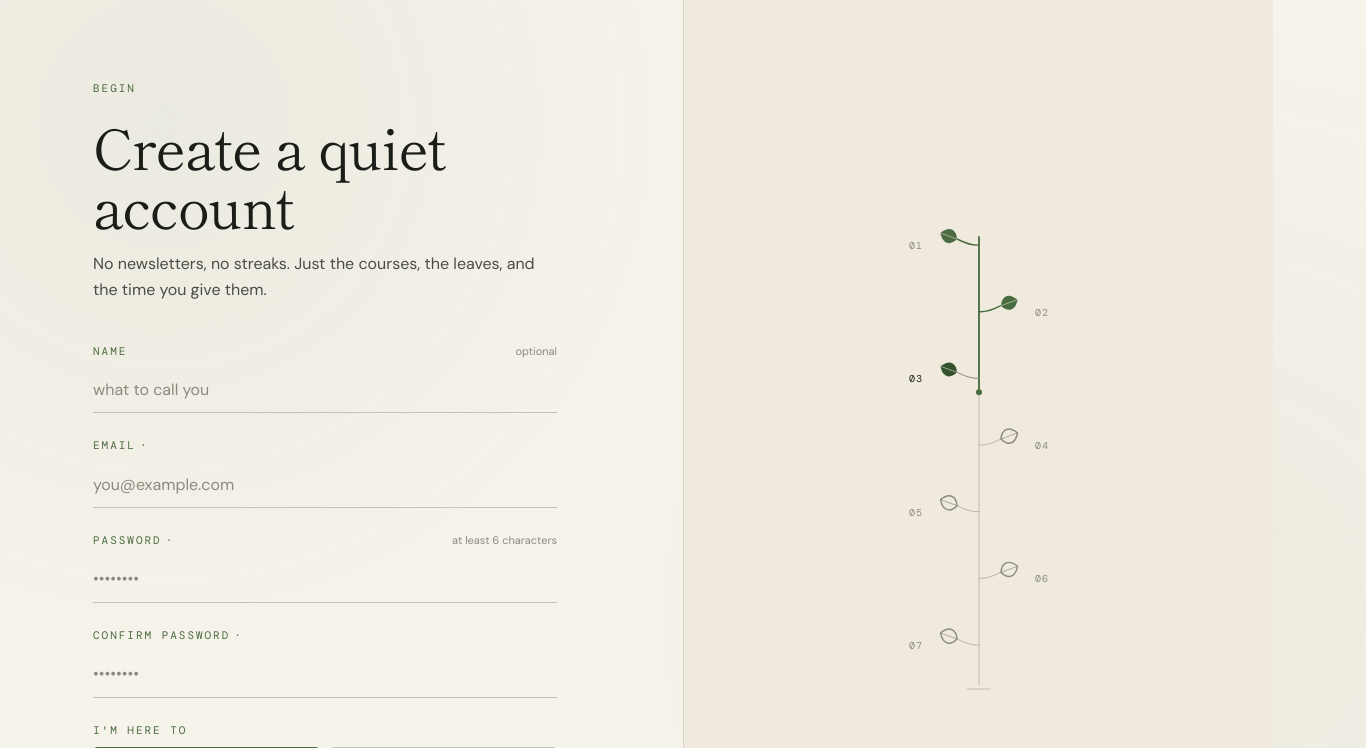
Scenario: Register › shows error when password is shorter than 6 characters
This screenshot has width=1366, height=748.
In the field labelled "Email·": (325, 485) [93,462,557,508], type "a@b.com"
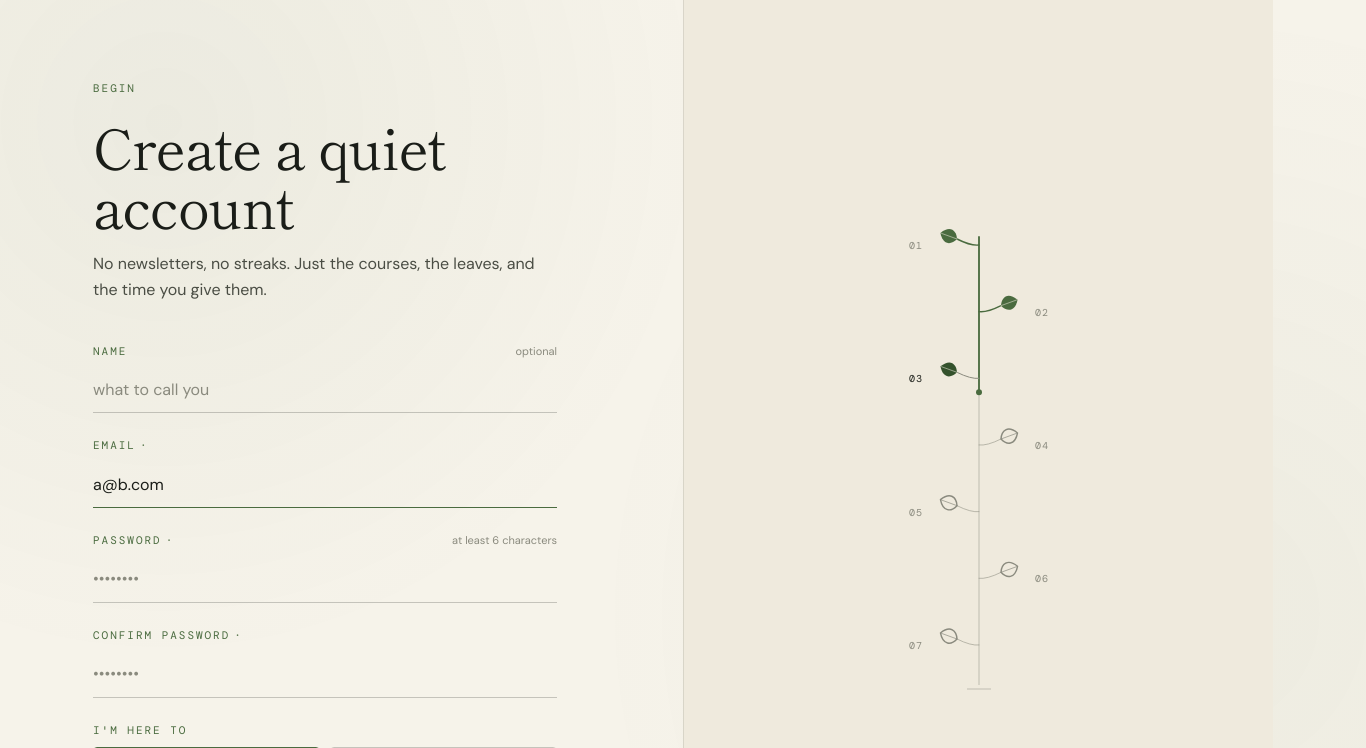
In the password field labelled "Password· at least 6 characters": (325, 580) [93,557,557,603], type "abc"
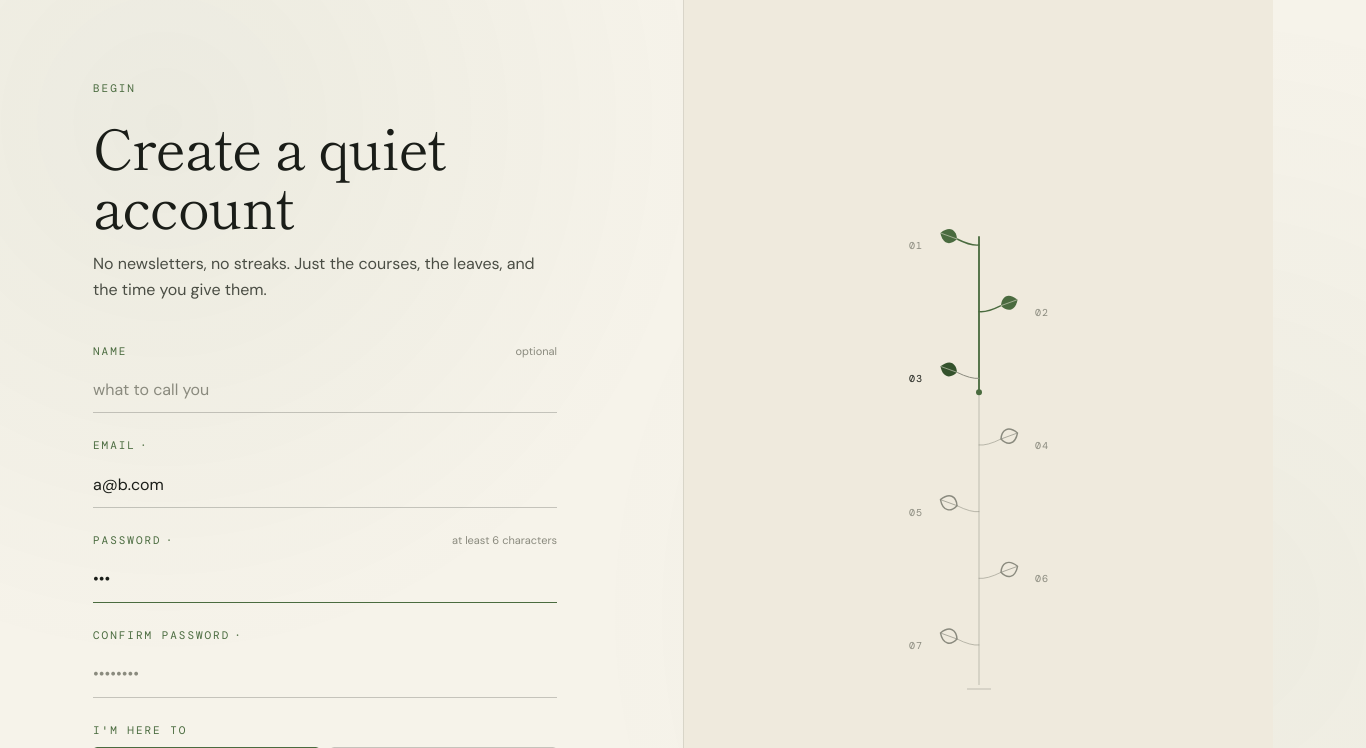
In the password field labelled "Confirm password·": (325, 675) [93,652,557,698], type "abc"
(page scrolled)
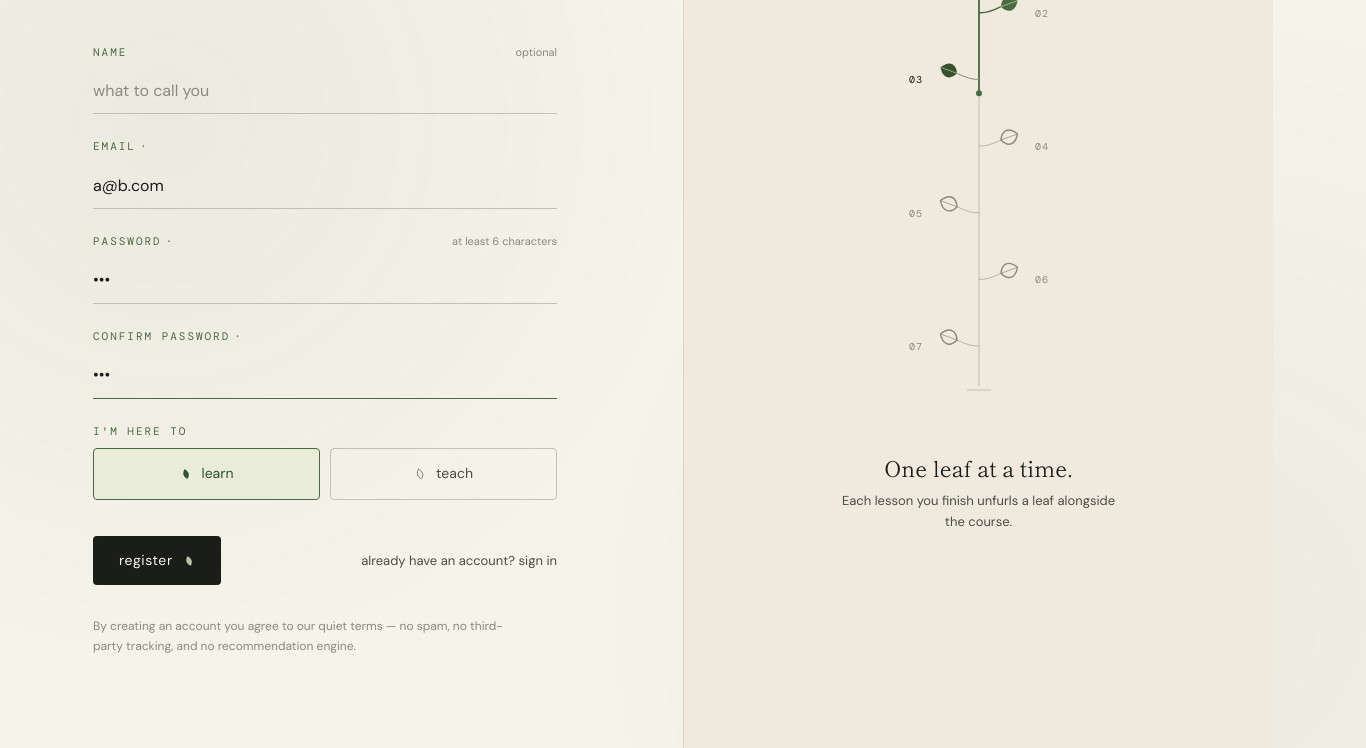
Click the button "register": (157, 561) [93,536,221,586]
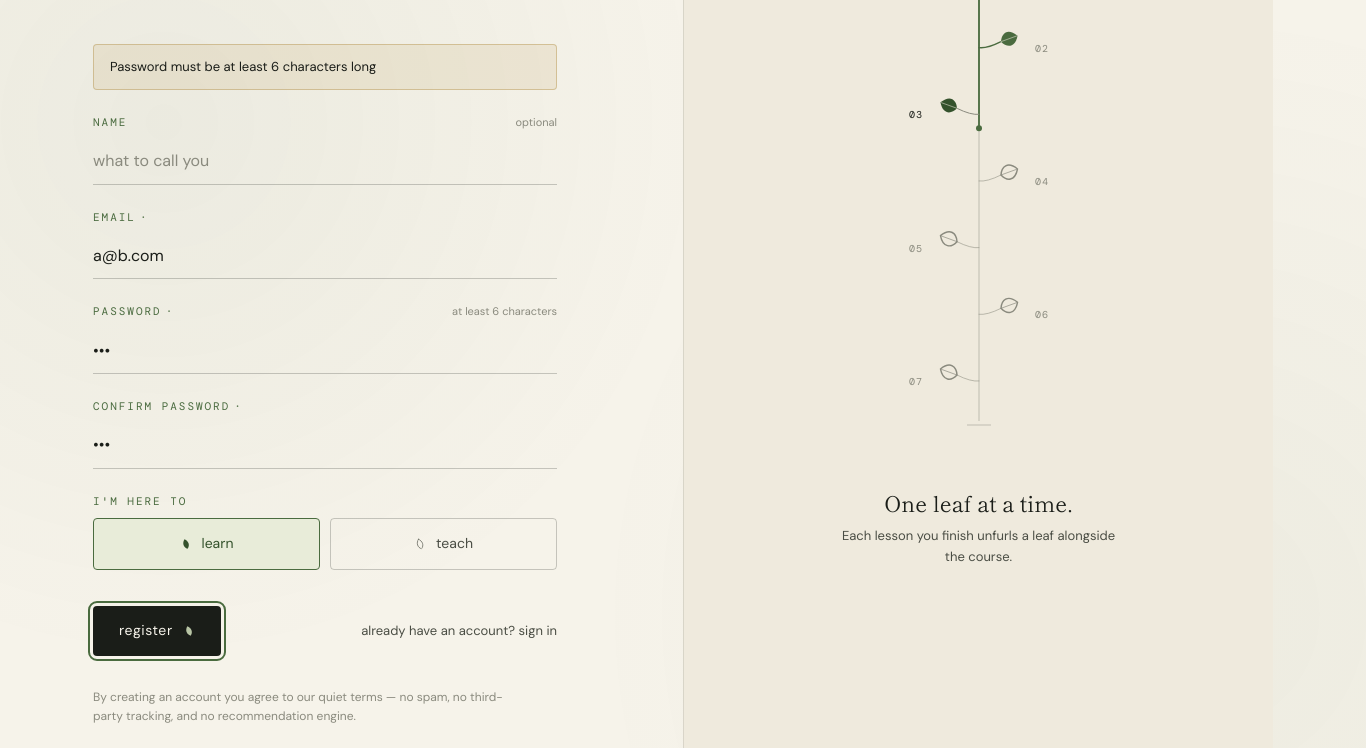
Result: the message shows "at least 6 characters" at [110,58,376,75]
